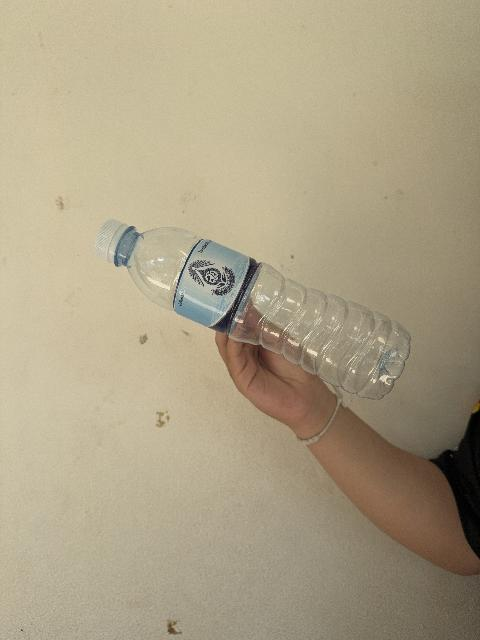bottle: (95, 220, 409, 399)
